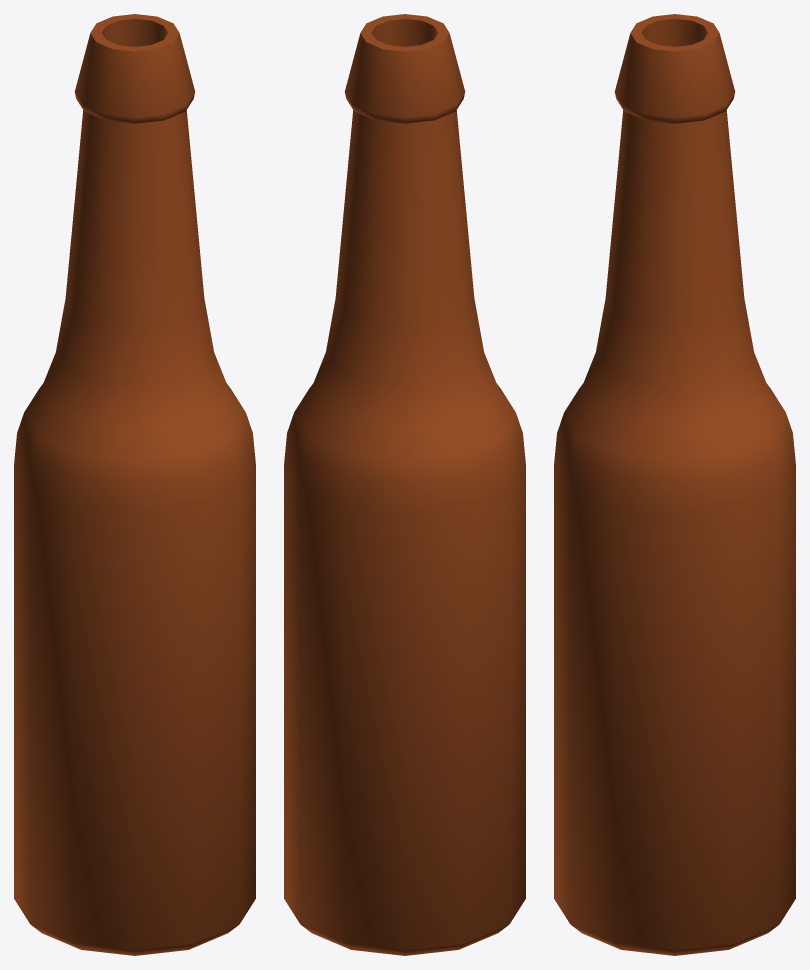
The model's file is BeerBottle.fbx.
The picture shows the model from 3 angles, left to right: view 1: azimuth 30°, elevation 25°; view 2: azimuth 150°, elevation 25°; view 3: azimuth 270°, elevation 25°; orthographic projection.
Visible parts, largest first — view 1: BeerBottle; view 2: BeerBottle; view 3: BeerBottle.
Part boxes in pixels (left/top/right/bottom): BeerBottle: left=14, top=14, right=255, bottom=955; BeerBottle: left=284, top=14, right=525, bottom=955; BeerBottle: left=554, top=14, right=795, bottom=955.
Bounding box in the file's own units: 0.0396 × 0.1587 × 0.0396.
